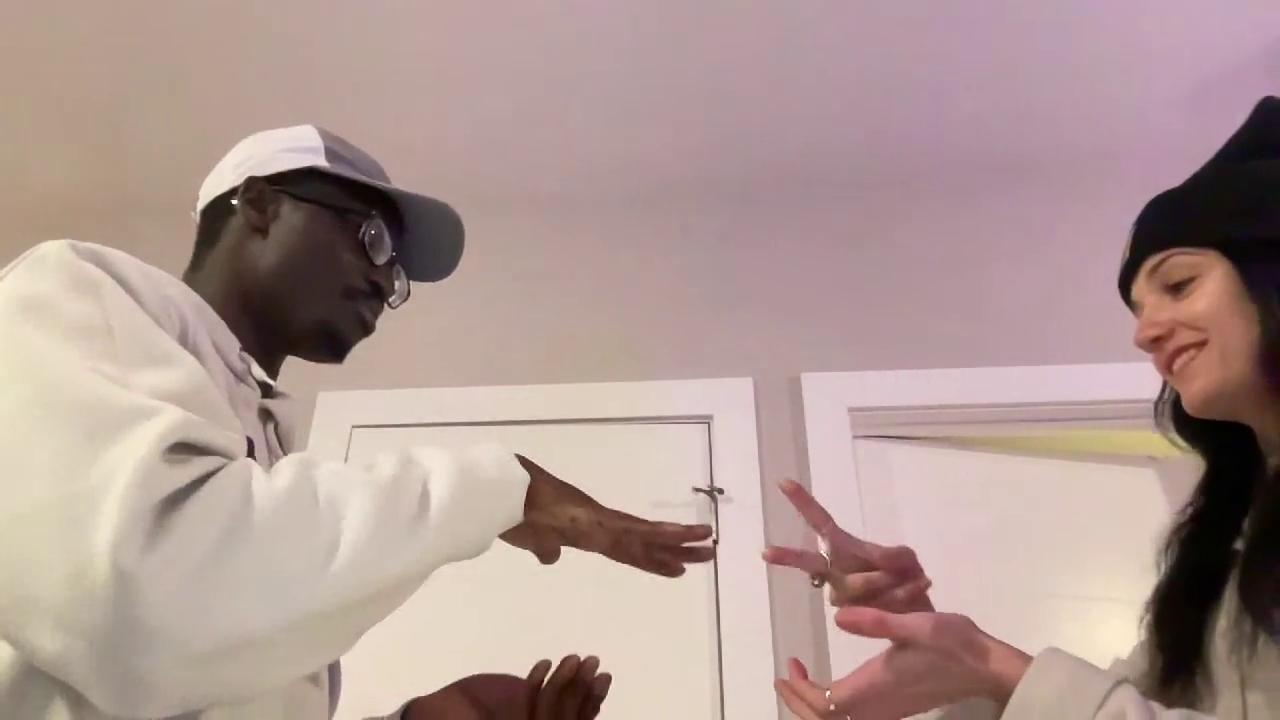Paper: (513, 458, 716, 590)
Scissors: (762, 478, 933, 623)
